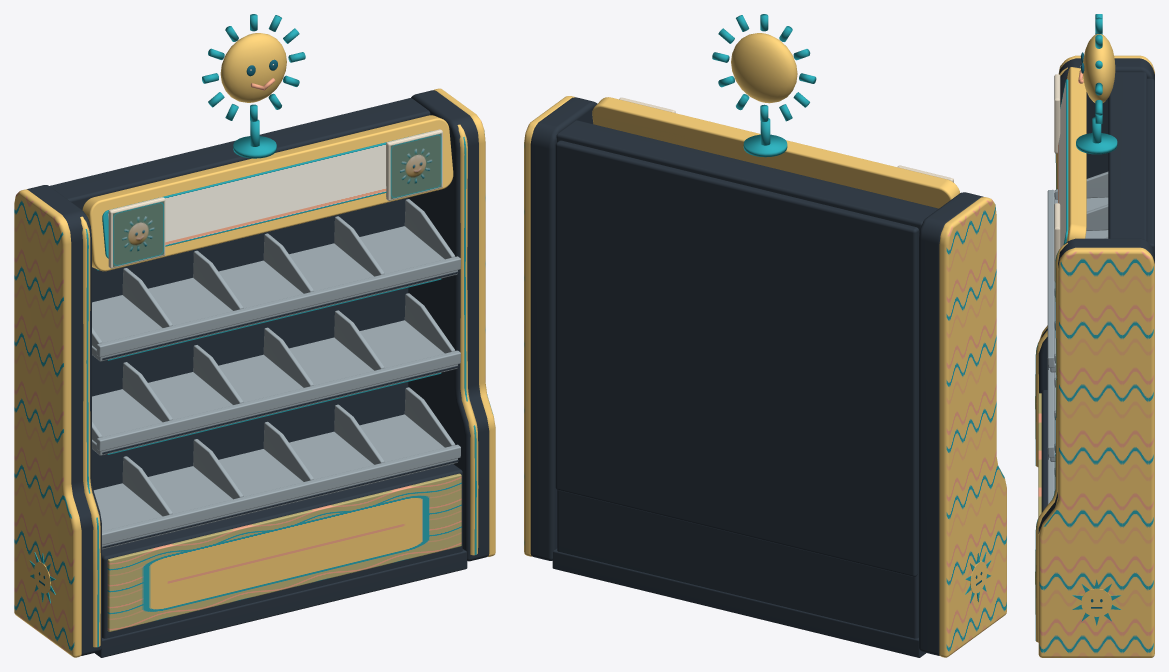
File: TH_BEACH.fbx
3 views of the same model, side by side, from view 1: azimuth 30°, elevation 25°; view 2: azimuth 150°, elevation 25°; view 3: azimuth 270°, elevation 25° (orthographic). The views are drawn at different scales.
Visible parts, largest first — view 1: BaseFrontInset, Left_PaintedPanel, BackPanel.001, Right_StructuralWall, Tray_02, Tray_01, Tray_03, HeaderFace, HeaderBorder, TopCrossRail, Left_StructuralWall, ClosedSolidBase (+33 smaller); view 2: BackPanel.001, Left_PaintedPanel, ClosedSolidBase, Right_StructuralWall, HeaderBorder, Left_StructuralWall, TopCrossRail, LowerPlinth, Sunny face, Right_PaintedPanel, TopperMount; view 3: Right_PaintedPanel, TopCrossRail, HeaderBorder, Left_StructuralWall, Sunny face, HeaderFace, FrontLip_01, BackPanel.001, RightHousing, Right_StructuralWall, ClosedSolidBase, FrontLip_02 (+14 smaller).
Part boxes in pixels (bbox=[...]): BaseFrontInset: bbox=[107, 473, 461, 631]; Left_PaintedPanel: bbox=[14, 189, 81, 657]; BackPanel.001: bbox=[92, 197, 408, 489]; Right_StructuralWall: bbox=[408, 90, 489, 561]; Tray_02: bbox=[92, 320, 457, 455]; Tray_01: bbox=[92, 226, 457, 361]; Tray_03: bbox=[93, 414, 457, 549]; HeaderFace: bbox=[102, 131, 430, 258]; HeaderBorder: bbox=[82, 115, 453, 271]; TopCrossRail: bbox=[49, 98, 430, 209]; Left_StructuralWall: bbox=[27, 185, 101, 655]; ClosedSolidBase: bbox=[102, 464, 462, 638]; BackPanel.001: bbox=[555, 140, 919, 576]; Left_PaintedPanel: bbox=[939, 197, 1006, 657]; ClosedSolidBase: bbox=[557, 490, 918, 638]; Right_StructuralWall: bbox=[530, 97, 597, 560]; HeaderBorder: bbox=[592, 97, 959, 208]; Left_StructuralWall: bbox=[919, 192, 983, 655]; TopCrossRail: bbox=[556, 120, 938, 233]; LowerPlinth: bbox=[552, 548, 925, 657]; Sunny face: bbox=[731, 33, 797, 103]; Right_PaintedPanel: bbox=[524, 96, 574, 556]; TopperMount: bbox=[743, 134, 787, 157]; Right_PaintedPanel: bbox=[1038, 247, 1154, 657]; TopCrossRail: bbox=[1108, 72, 1146, 240]; HeaderBorder: bbox=[1066, 67, 1086, 241]; Left_StructuralWall: bbox=[1038, 58, 1154, 393]; Sunny face: bbox=[1083, 34, 1115, 102]; HeaderFace: bbox=[1058, 79, 1068, 247]; FrontLip_01: bbox=[1047, 189, 1054, 367]; BackPanel.001: bbox=[1147, 78, 1154, 254]; RightHousing: bbox=[1035, 242, 1067, 642]; Right_StructuralWall: bbox=[1038, 238, 1154, 533]; ClosedSolidBase: bbox=[1041, 390, 1047, 512]; FrontLip_02: bbox=[1047, 359, 1054, 457].
Bounding box in the file's own units: 3.62 × 4.68 × 0.9273.
